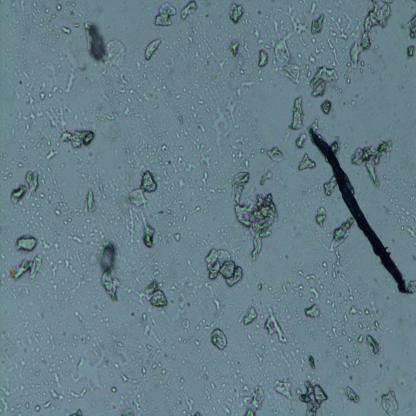Background material: (322, 251, 362, 372), (232, 170, 280, 260), (6, 308, 66, 376), (64, 297, 120, 356), (38, 235, 89, 298), (350, 0, 394, 72), (266, 13, 302, 84), (199, 352, 241, 412), (105, 62, 146, 121), (185, 19, 225, 78), (351, 137, 396, 187), (307, 14, 352, 64), (160, 257, 203, 309), (67, 342, 107, 392), (204, 245, 243, 292), (122, 130, 162, 170), (98, 240, 121, 302), (168, 190, 204, 228), (161, 155, 198, 191), (140, 343, 177, 376), (269, 342, 301, 380), (202, 152, 229, 196), (388, 198, 416, 240), (99, 177, 126, 220), (176, 116, 208, 152), (14, 59, 37, 107), (82, 16, 106, 62), (130, 170, 159, 208), (135, 278, 168, 311), (0, 381, 32, 414), (327, 215, 354, 253), (298, 380, 328, 414), (308, 65, 338, 99), (262, 305, 288, 344), (183, 88, 210, 124), (213, 99, 229, 159), (280, 271, 316, 297), (19, 199, 50, 229), (153, 79, 179, 114), (10, 255, 42, 283), (31, 2, 53, 40), (139, 209, 157, 255), (241, 383, 266, 415), (180, 318, 206, 348), (180, 376, 200, 415), (121, 382, 146, 413), (57, 192, 77, 229), (362, 297, 385, 328), (59, 130, 95, 149), (289, 95, 306, 133), (247, 326, 263, 366), (121, 208, 137, 248), (38, 161, 58, 193), (272, 378, 296, 404), (44, 105, 67, 132), (106, 38, 126, 69), (152, 3, 177, 27), (378, 388, 400, 415), (229, 139, 249, 168), (235, 304, 260, 326), (210, 325, 230, 352), (309, 8, 327, 35), (25, 168, 40, 199), (143, 37, 161, 62), (343, 381, 361, 405), (15, 235, 39, 252), (227, 3, 245, 25), (364, 332, 379, 358), (226, 99, 238, 131), (297, 153, 317, 172), (180, 1, 198, 22), (84, 190, 98, 215), (15, 107, 44, 119), (10, 184, 27, 204), (300, 352, 317, 372), (64, 66, 76, 94), (264, 148, 284, 164), (255, 49, 270, 70), (139, 314, 151, 340), (252, 25, 265, 49), (38, 86, 62, 99), (314, 204, 327, 227), (304, 303, 320, 321), (325, 174, 338, 196), (156, 139, 175, 154), (0, 161, 13, 182), (44, 4, 63, 18), (211, 296, 223, 318), (406, 13, 416, 39), (66, 232, 84, 246), (320, 97, 333, 116), (295, 133, 310, 149), (228, 64, 248, 76), (330, 135, 342, 154), (52, 370, 63, 390), (308, 286, 321, 302), (50, 387, 64, 401), (241, 79, 256, 92), (228, 41, 240, 57), (18, 138, 29, 155), (348, 302, 360, 316), (258, 66, 267, 84), (45, 148, 58, 160), (70, 406, 86, 415), (406, 44, 415, 58), (18, 0, 29, 11), (60, 24, 72, 34), (120, 372, 130, 384), (15, 161, 27, 171), (173, 232, 182, 244), (41, 398, 50, 410), (344, 75, 352, 86), (54, 208, 62, 218), (109, 386, 119, 394), (34, 405, 42, 413)
Cotton: (310, 129, 409, 298)
